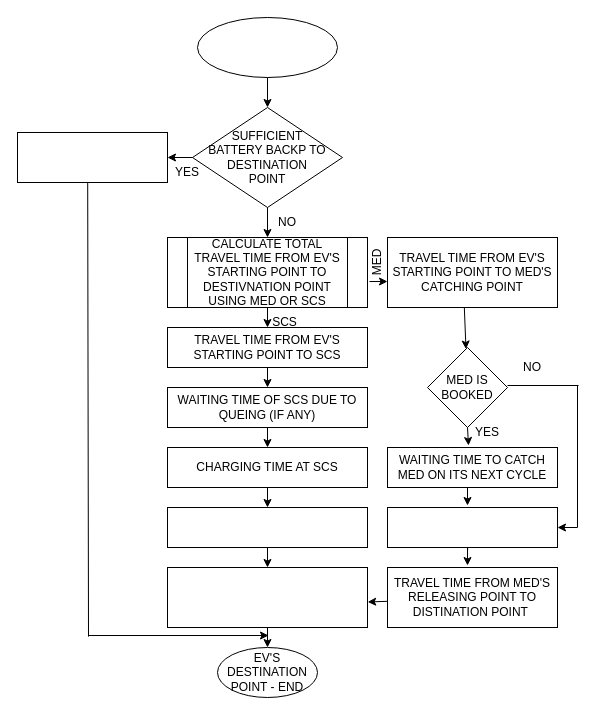
This 603x715 diagram has some shape labels left out. Here are the shapes that lost their labels. From the top down, the box of each, then its label:
(196, 16, 338, 78): START EV STARTING POINT
(16, 132, 168, 182): TRAVEL TIME FROM EV'S STARTING POINT TO DESTINATION POINT
(166, 506, 368, 548): TRAVEL TIME FORM SCS TO EV'S DESTINATION POINT
(386, 506, 558, 548): TRAVEL TIME OF EV WHEN ATTACHED TO THE MED
(166, 566, 368, 628): SELECT THE ROUTE WITH THE MINIMUM TOTAL TRAVEL TIME
